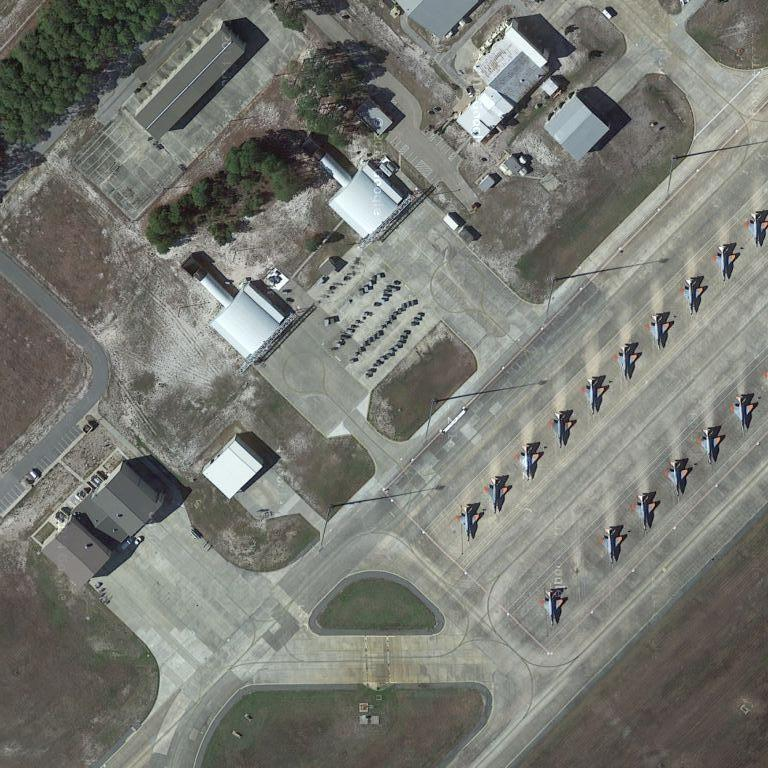plane: (451, 498, 488, 547), (726, 388, 761, 438), (480, 470, 516, 518), (692, 422, 726, 472), (536, 585, 570, 632), (545, 405, 579, 451), (581, 370, 612, 420), (596, 521, 628, 569), (612, 338, 643, 387), (513, 439, 546, 485), (630, 489, 662, 535), (677, 275, 710, 318), (664, 454, 692, 502), (711, 239, 742, 281), (645, 308, 673, 354), (742, 208, 766, 258)
